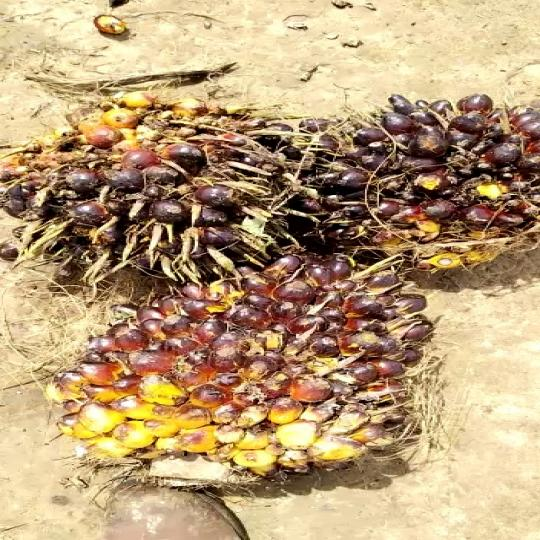kurang masak: (74, 253, 424, 500), (14, 102, 308, 284), (289, 98, 540, 282)
